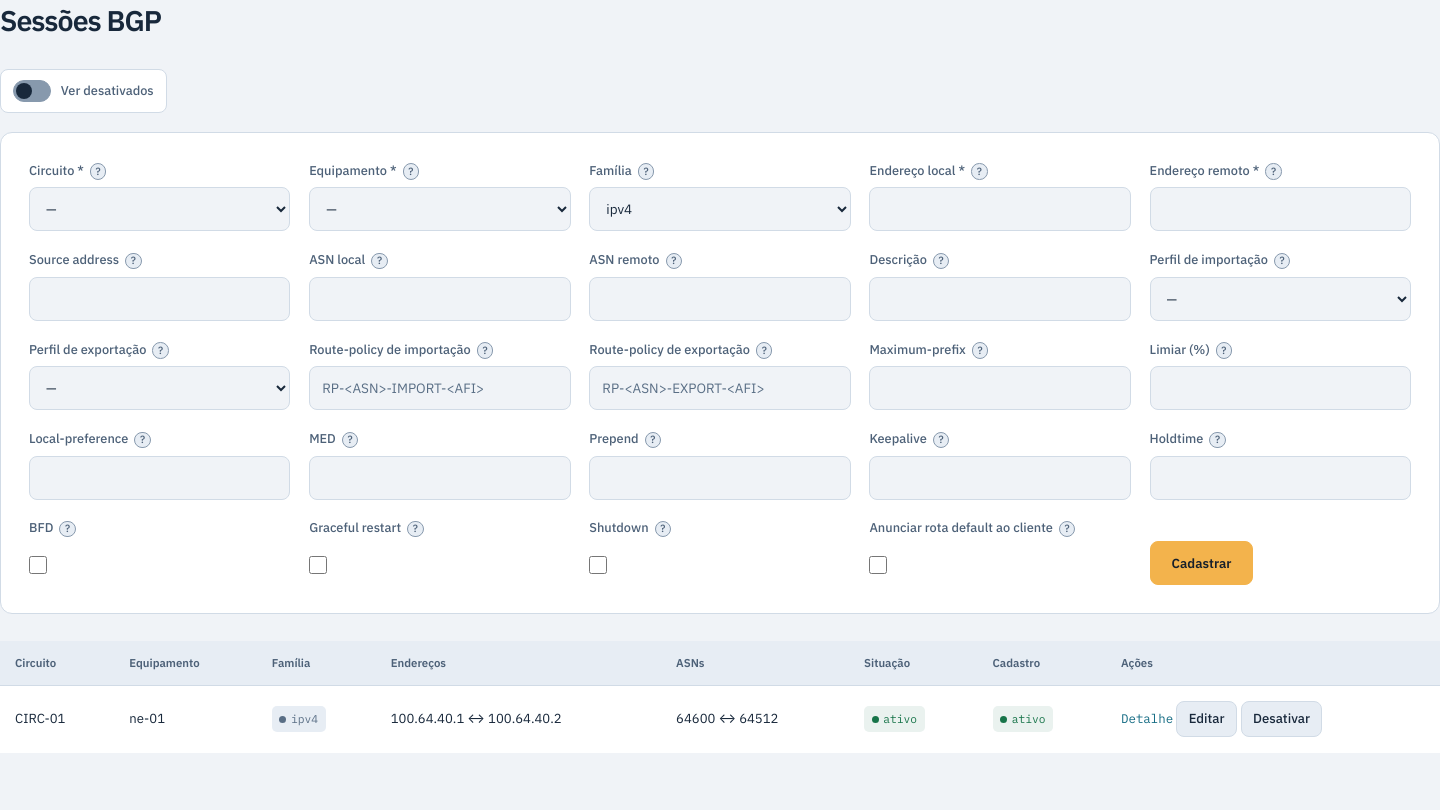
Test: BgpSessions › abrir a edição não sobrescreve os valores salvos com os do circuito
Expected: the text "100.64.40.1 ↔ 100.64.40.2" is shown, [376, 685, 661, 753]
Click the button "Editar" at coordinates (1207, 719), box [1176, 701, 1237, 737]
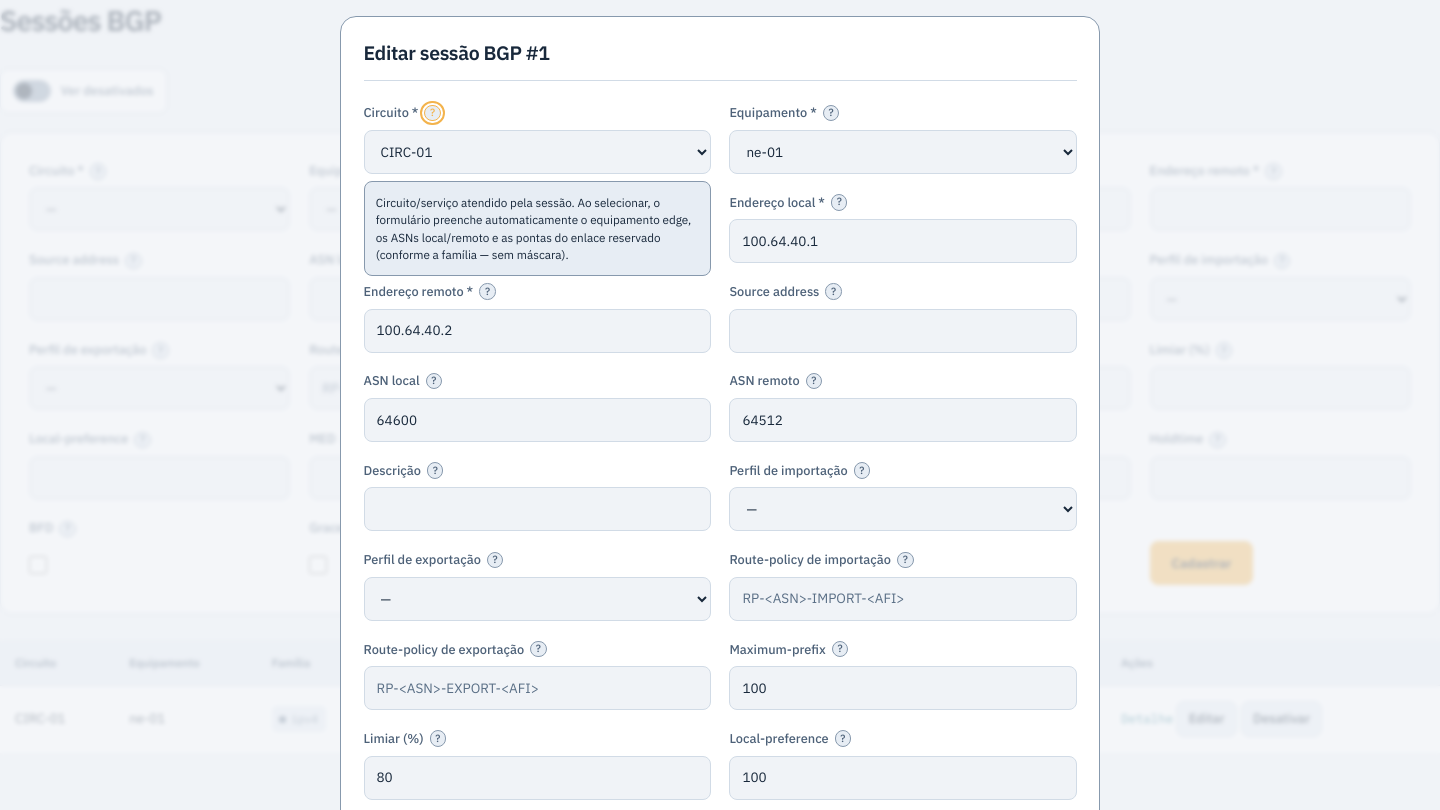
Now the field labelled "Endereço local * ?" holds "100.64.40.1", box [729, 219, 1076, 263]
Now the field labelled "Endereço remoto * ?" holds "100.64.40.2", box [364, 309, 711, 353]
